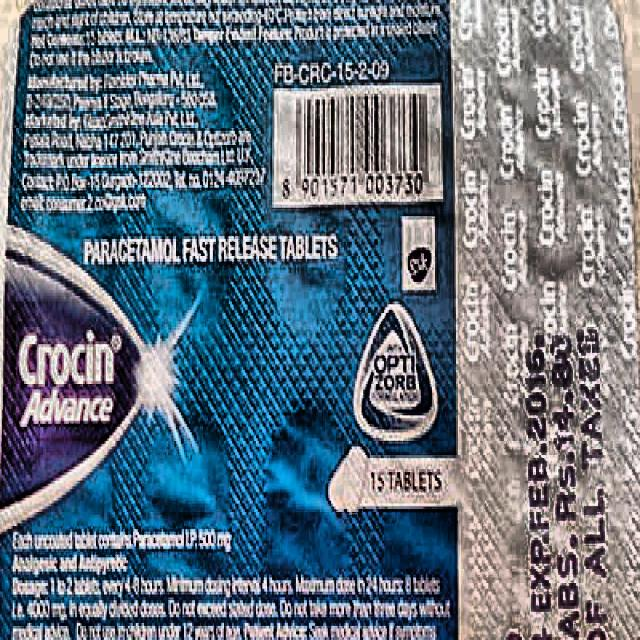Crocin: (6, 290, 154, 474)
